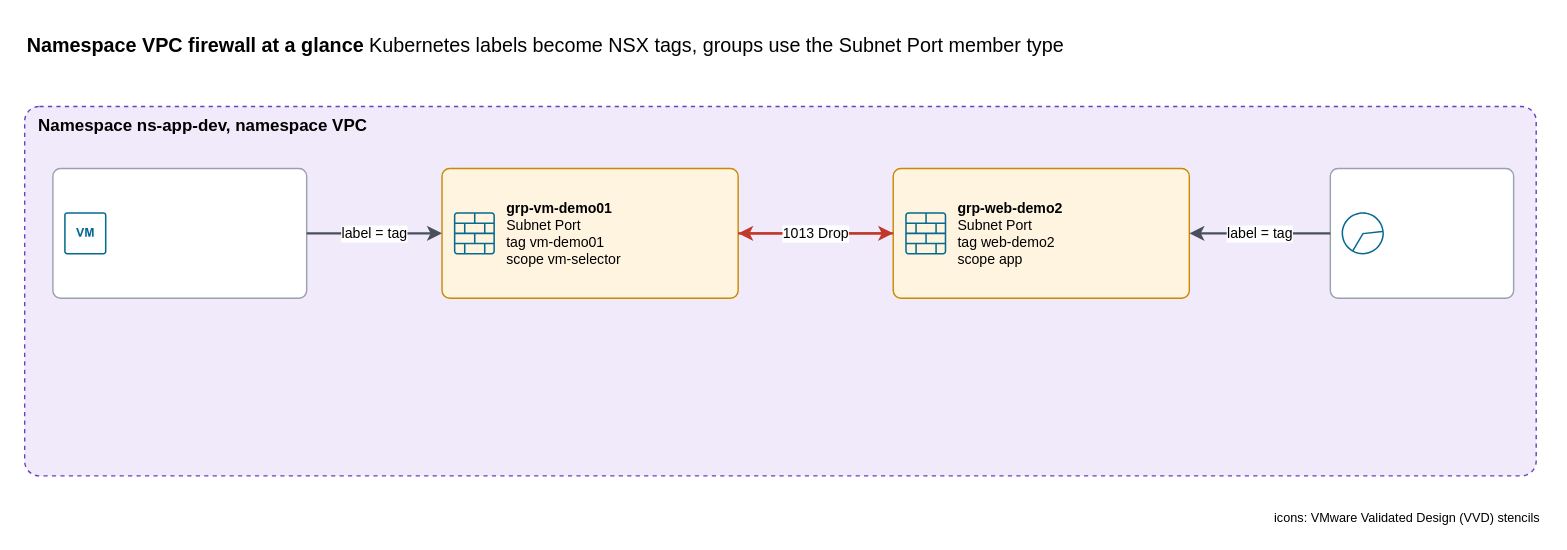
Image size: 1567x550. Some labels were removed from this diagram. The box of each missing label's shape, as (x1, y1, x2, y2) in pixels:
vm-demo01 VM Service VM 172.21.0.35 vm-selector: vm-demo01: (51, 167, 307, 298)
web-demo2 3 vSphere Pods 172.31.0.34-.36 app: web-demo2: (1329, 167, 1514, 298)
